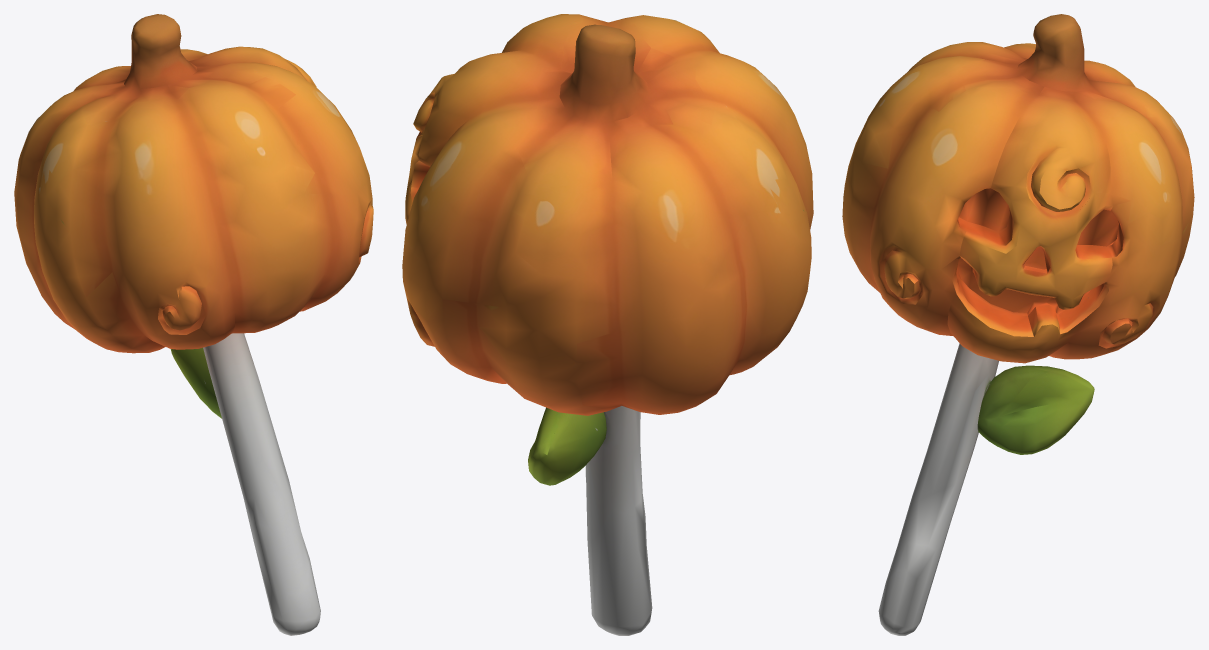
File: S11_LollipopPumpkin_LOD0.fbx
3 views of the same model, side by side, from view 1: azimuth 30°, elevation 25°; view 2: azimuth 150°, elevation 25°; view 3: azimuth 270°, elevation 25° (orthographic). The views are drawn at different scales.
Visible parts, largest first — view 1: S11_LollipopPumpkin_LOD0; view 2: S11_LollipopPumpkin_LOD0; view 3: S11_LollipopPumpkin_LOD0.
Part boxes in pixels (x1,y1,x2,y2): S11_LollipopPumpkin_LOD0: (14,14,373,635); S11_LollipopPumpkin_LOD0: (402,14,813,635); S11_LollipopPumpkin_LOD0: (842,14,1194,635).
Bounding box in the file's own units: 0.0496 × 0.09 × 0.0493.
1 material, 1 textured.
